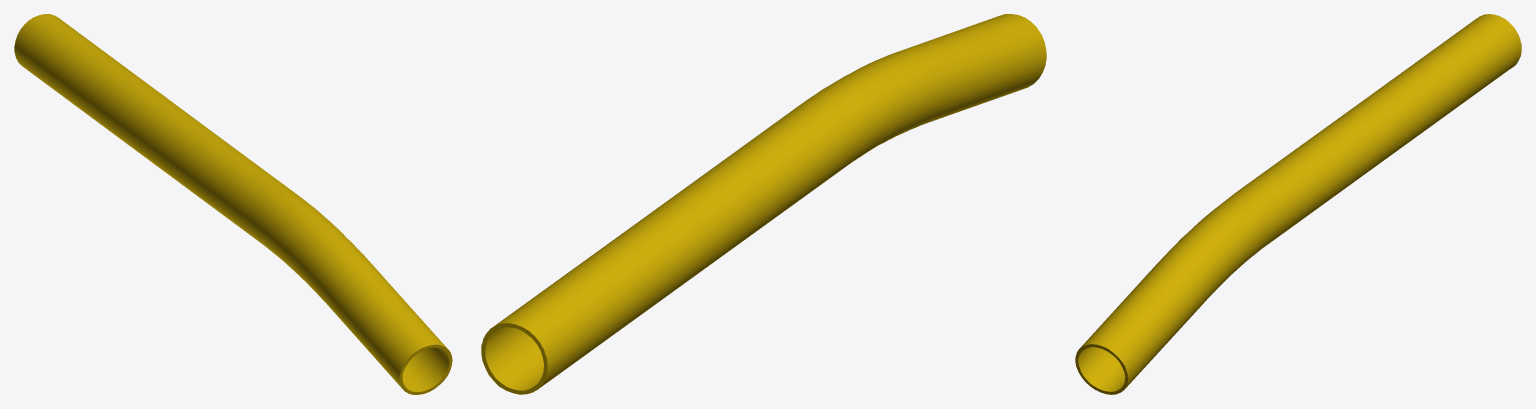
The model's file is original-11.obj.
The picture shows the model from 3 angles, left to right: view 1: azimuth 30°, elevation 25°; view 2: azimuth 150°, elevation 25°; view 3: azimuth 330°, elevation 25°; orthographic projection. The views are drawn at different scales.
Parts seen in each view (by area): view 1: #ID73; view 2: #ID73; view 3: #ID73.
Part boxes in pixels (x1,y1,x2,y2): #ID73: [14, 14, 452, 394]; #ID73: [481, 14, 1046, 394]; #ID73: [1075, 14, 1521, 394].
Size of the model in its own units: 0.0273 by 0.0449 by 0.3302.
